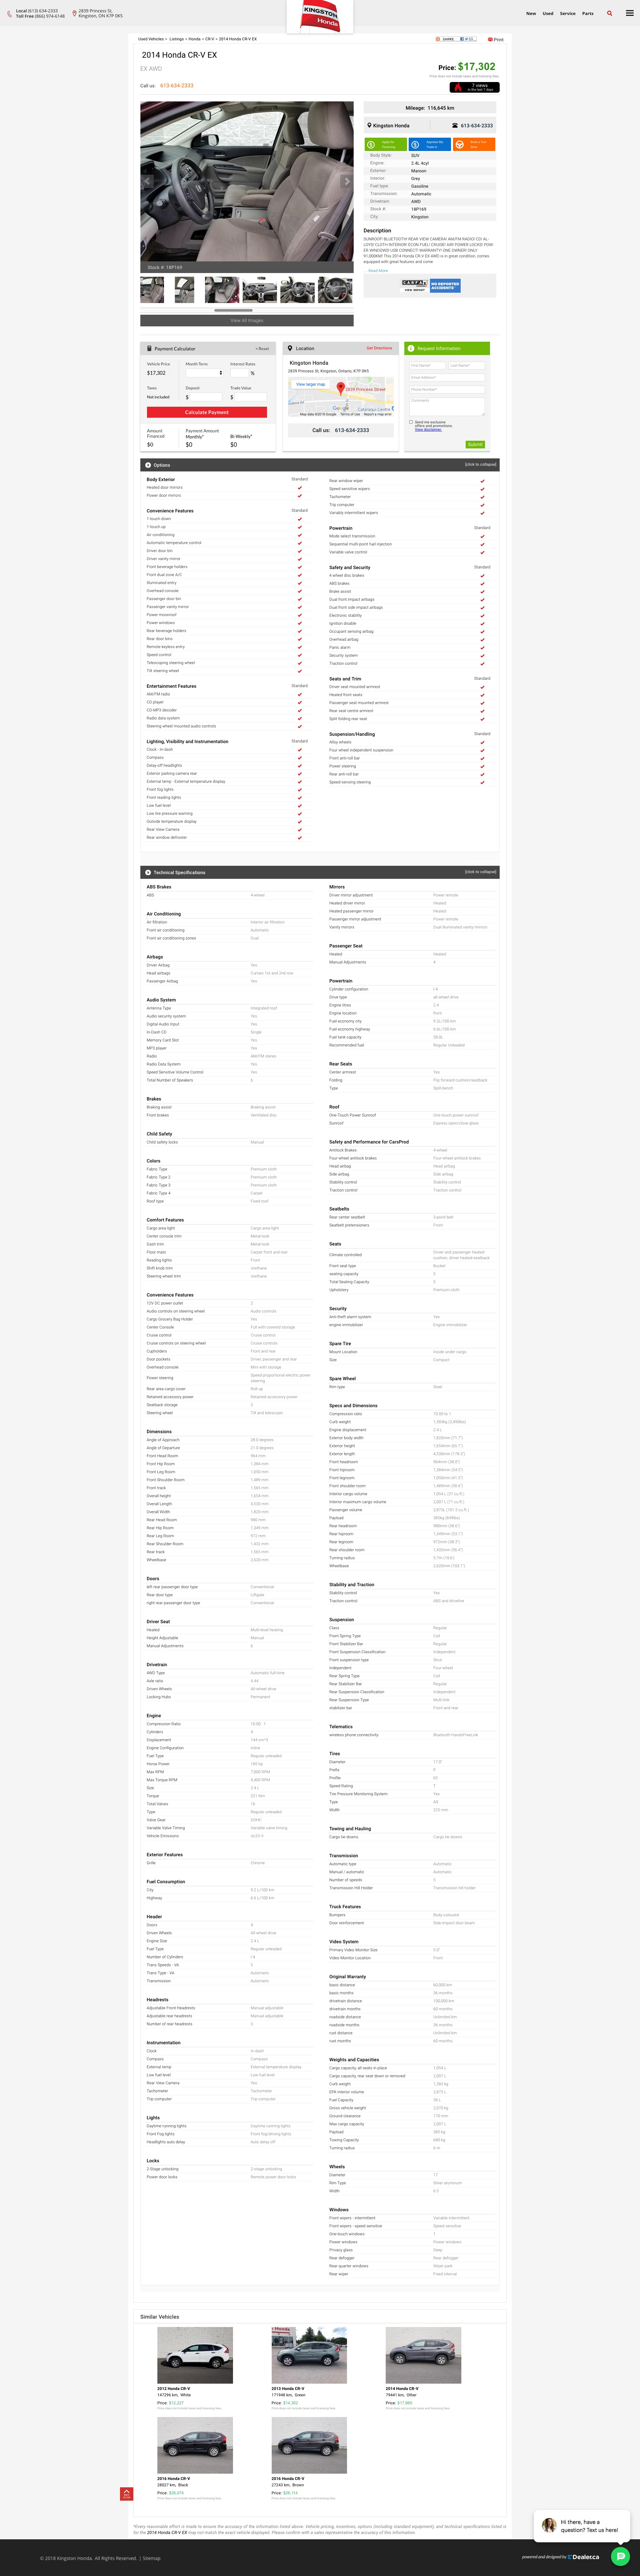car: (340, 176, 354, 189)
